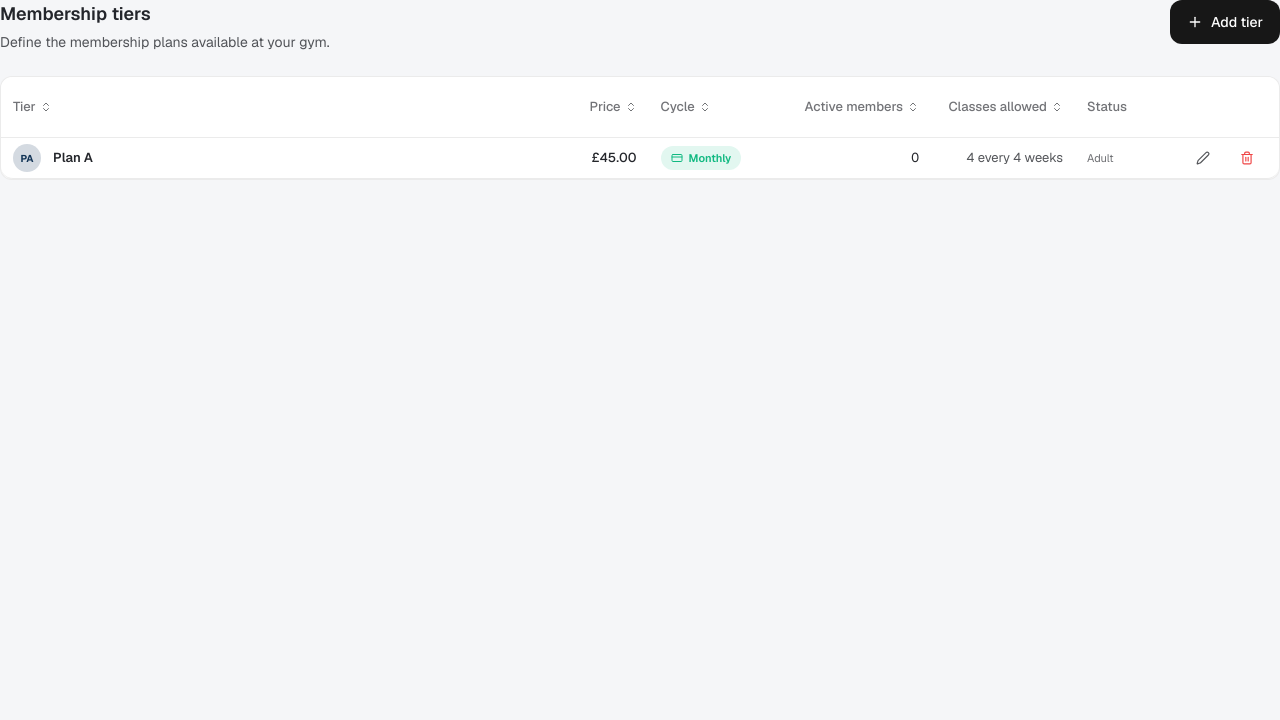
Scenario: the class allowance in the tier editor › clearing an existing allowance sends nulls for the whole set and the row then reads Unlimited
This screenshot has width=1280, height=720.
Click the button named "Edit Plan A" at (1203, 158), box [1183, 142, 1223, 174]
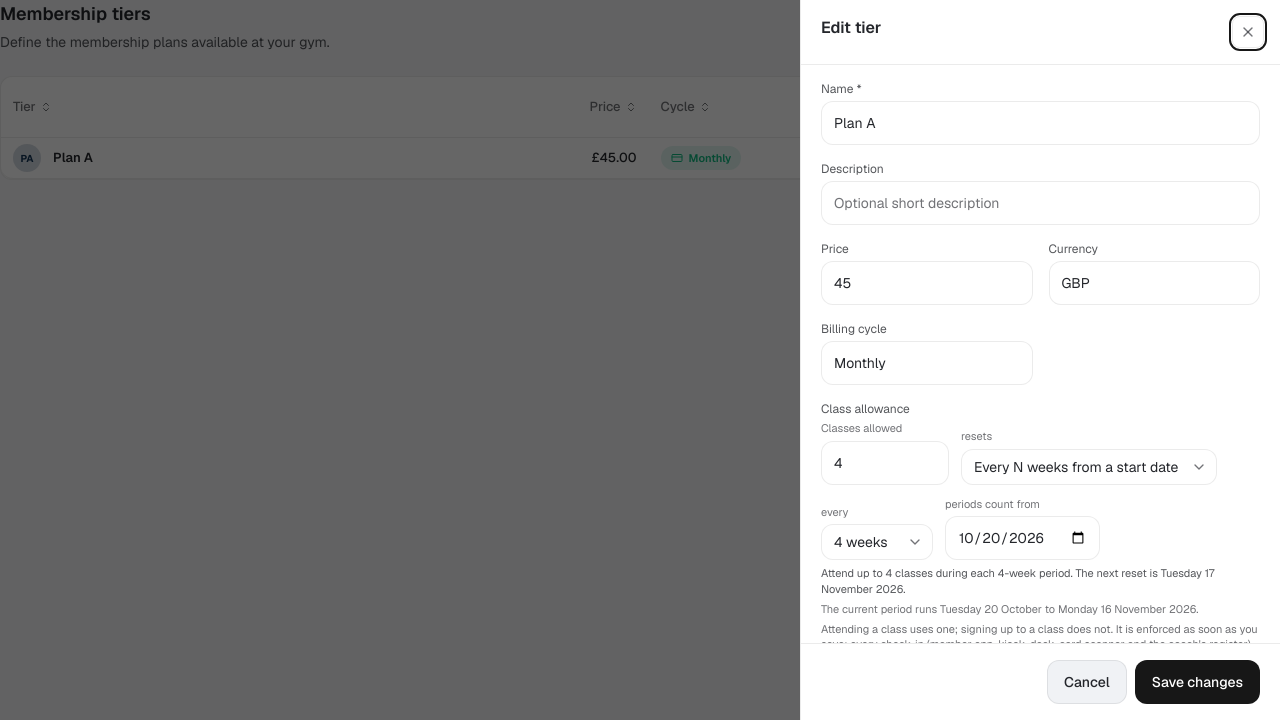
Clear the field labelled "Classes allowed" at (885, 463), box [821, 441, 949, 485]
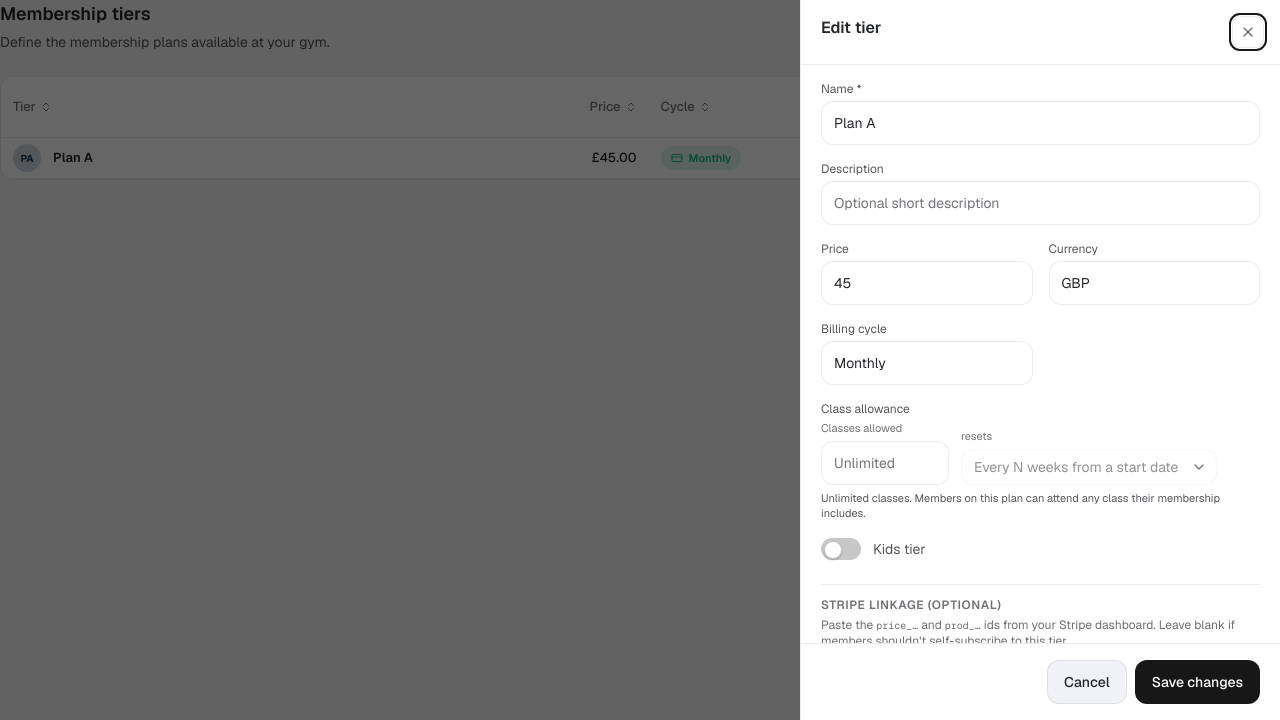
Click the button "Save changes" at (1197, 682), box [1135, 660, 1260, 704]
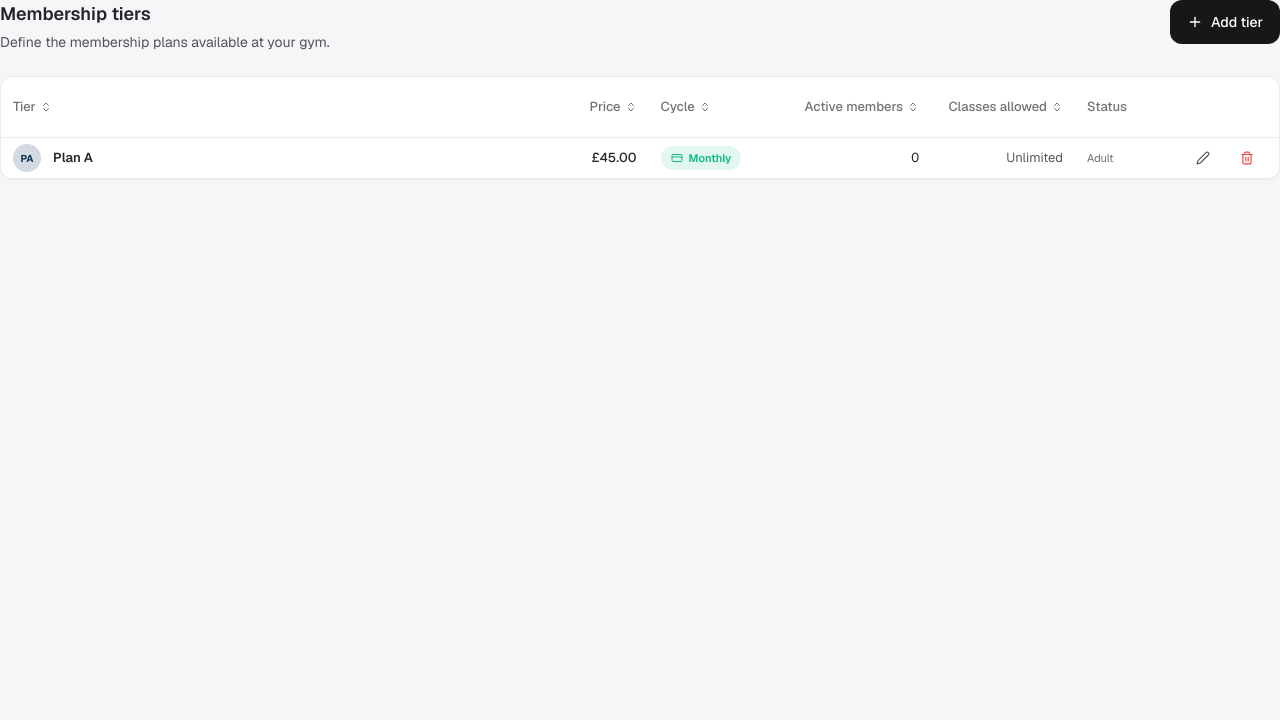
Expected: the text "Unlimited" is shown, [1006, 149, 1063, 166]
